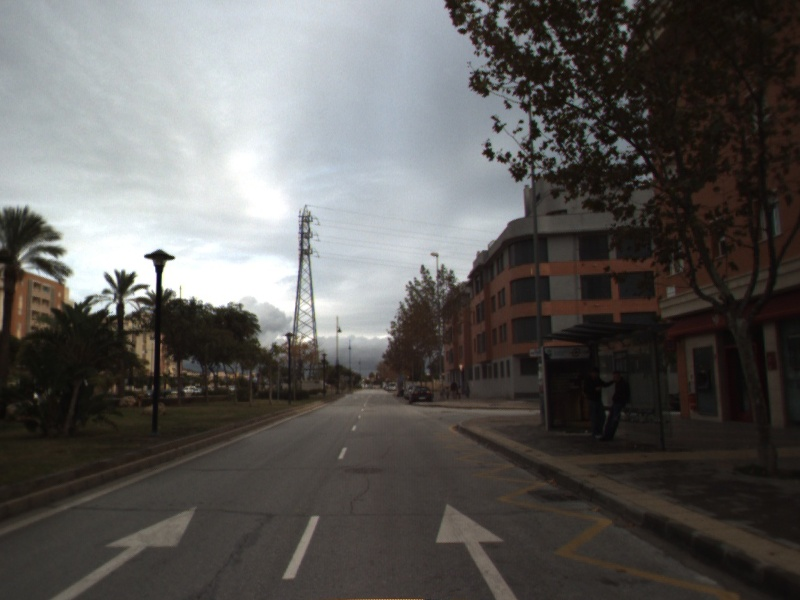STRAIGHT: (47, 503, 201, 600), (434, 501, 521, 600)
